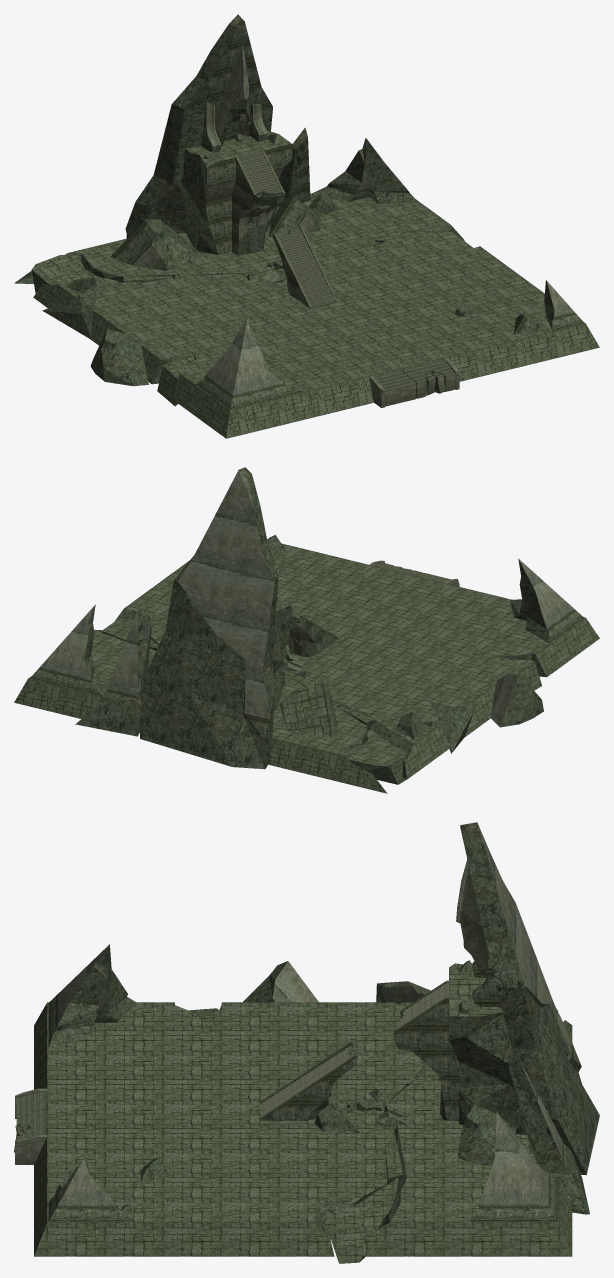
The model's file is thm_dant_jedi_main_l0.fbx.
The picture shows the model from 3 angles, top to bottom: view 1: azimuth 30°, elevation 25°; view 2: azimuth 150°, elevation 25°; view 3: azimuth 270°, elevation 25°; orthographic projection. The views are drawn at different scales.
Visible parts, largest first — view 1: mesh_node; view 2: mesh_node; view 3: mesh_node.
Boxes of the visible parts, x1=… form: mesh_node: x1=14, y1=14, x2=599, y2=438; mesh_node: x1=14, y1=467, x2=599, y2=793; mesh_node: x1=14, y1=822, x2=599, y2=1263.
Bounding box in the file's own units: 57.1 × 34.85 × 56.21.
